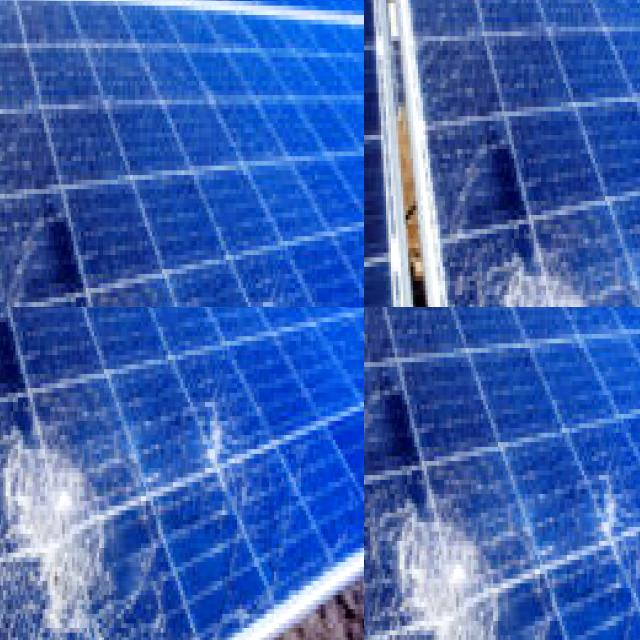hotspot: (364, 486, 524, 640), (556, 433, 640, 599)
